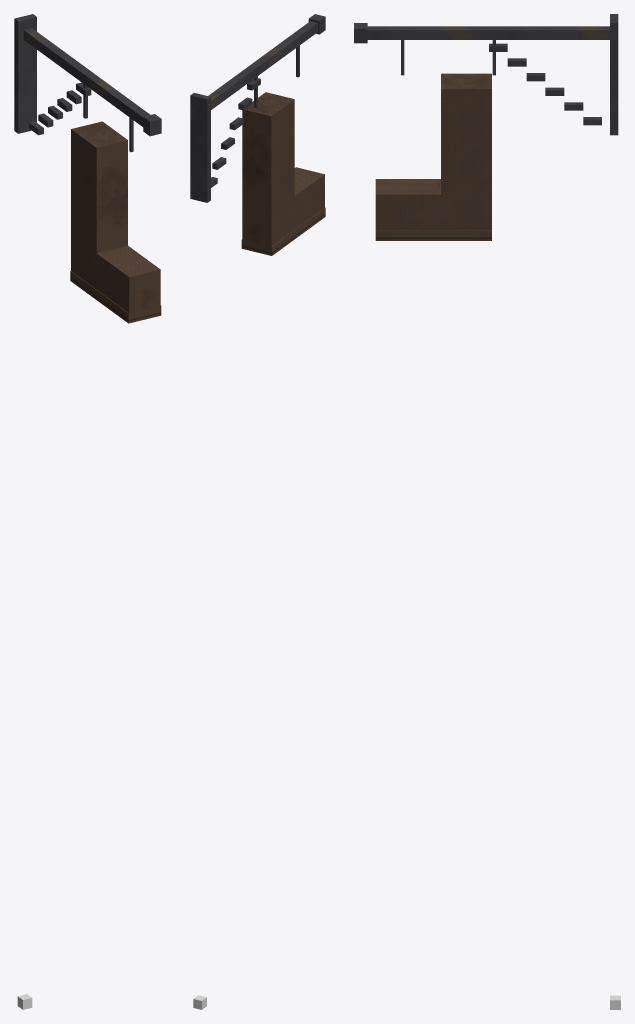
Rendered from sign_boot.glb.
3 views of the same model, side by side, from view 1: azimuth 30°, elevation 25°; view 2: azimuth 150°, elevation 25°; view 3: azimuth 270°, elevation 25° (orthographic). The views are drawn at different scales.
Parts seen in each view (by area): view 1: sign_boot; view 2: sign_boot; view 3: sign_boot.
Part boxes in pixels (x1,y1,x2,y2): sign_boot: [14, 14, 161, 323]; sign_boot: [190, 14, 325, 255]; sign_boot: [354, 14, 618, 240].
Bounding box in the file's own units: 0.1404 × 4.05 × 0.99.
Materials: 3 (3 with a texture image).
